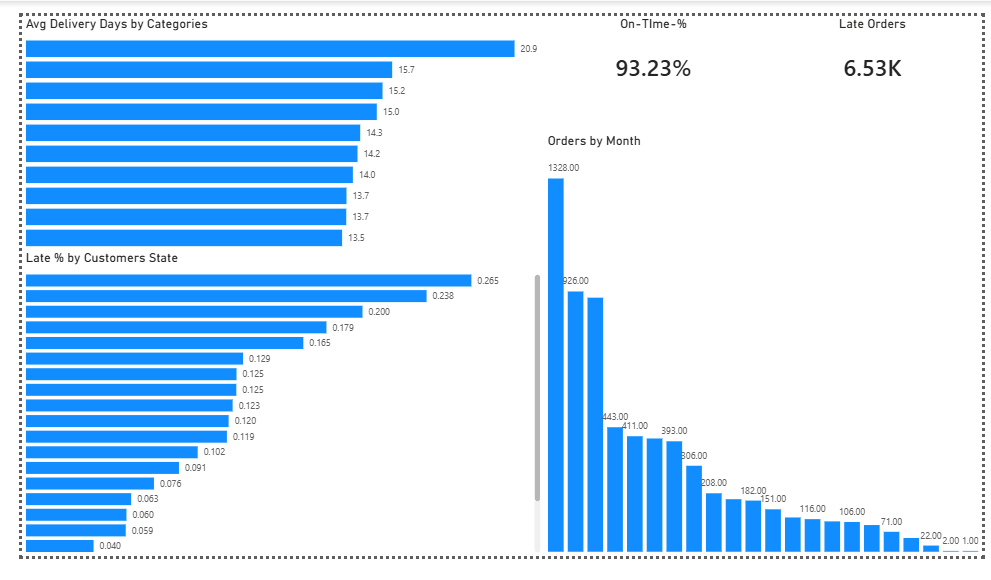

The dashboard page shown, as its layout file describes it:
{"tool":"powerbi","page":{"name":"Delievery and Logistics","canvas":[1280,720],"ordinal":4},"visuals":[{"type":"cardVisual","title":"Late Orders","fields":{"Data":["public bi_fact_sales.Late Orders"]},"box":[988,0,292,112],"z":0},{"type":"cardVisual","title":"On-TIme-%","fields":{"Data":["public bi_fact_sales.On-time %"]},"box":[696,0,292,112],"z":1000},{"type":"clusteredColumnChart","title":"Orders by Month","fields":{"Category":["DimDate.Year-Month"],"Y":["public bi_fact_sales.Late Orders"]},"box":[696,156,584,564],"z":2000},{"type":"barChart","title":"Avg Delivery Days by Categories","fields":{"Category":["public bi_fact_sales.category"],"Y":["public bi_fact_sales.Avg Delivery Days"]},"box":[0,0,696,312],"z":3000},{"type":"barChart","title":"Late % by Customers State","fields":{"Category":["public bi_fact_sales.customer_state"],"Y":["public bi_fact_sales.Late %"]},"box":[0,312,696,408],"z":4000}]}

Visuals, with their boxes on the page's 1280x720 design canvas (x1, y1, x2, y2). These are canvas units, not pixel positions in the 991x580 screenshot, which may show the page scaled, cropped or inside an application window:
"Late Orders" cardVisual: {"left": 988, "top": 0, "right": 1280, "bottom": 112}
"On-TIme-%" cardVisual: {"left": 696, "top": 0, "right": 988, "bottom": 112}
"Orders by Month" clusteredColumnChart: {"left": 696, "top": 156, "right": 1280, "bottom": 720}
"Avg Delivery Days by Categories" barChart: {"left": 0, "top": 0, "right": 696, "bottom": 312}
"Late % by Customers State" barChart: {"left": 0, "top": 312, "right": 696, "bottom": 720}
